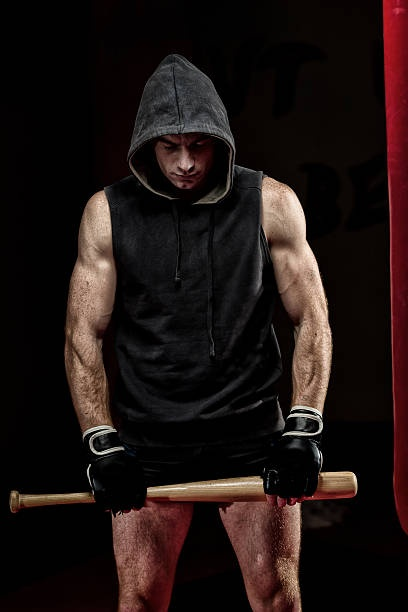bita: (7, 473, 355, 515)
